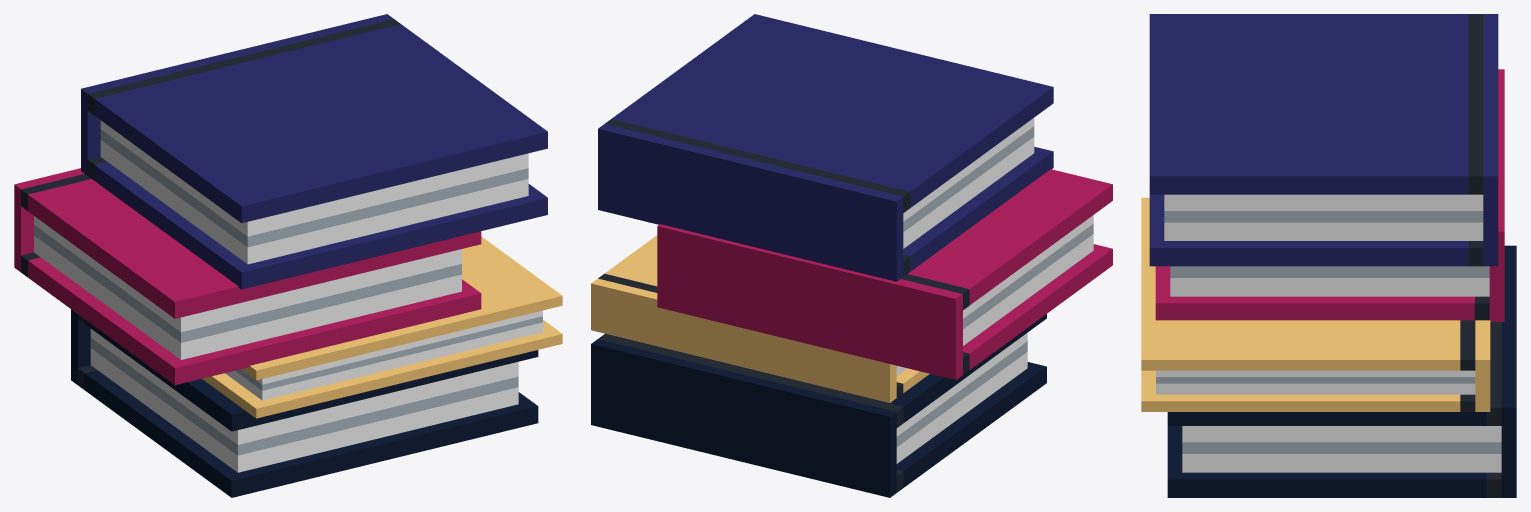
Rendered from Book_Bunch06.fbx.
3 views of the same model, side by side, from view 1: azimuth 30°, elevation 25°; view 2: azimuth 150°, elevation 25°; view 3: azimuth 270°, elevation 25° (orthographic). The views are drawn at different scales.
Parts seen in each view (by area): view 1: Cube.281; view 2: Cube.281; view 3: Cube.281.
Boxes of the visible parts, x1,y1,x2,y2 form: Cube.281: (14, 14, 562, 497); Cube.281: (591, 14, 1112, 497); Cube.281: (1141, 14, 1516, 497).
Size of the model in its own units: 41.9 by 31.24 by 32.95.
